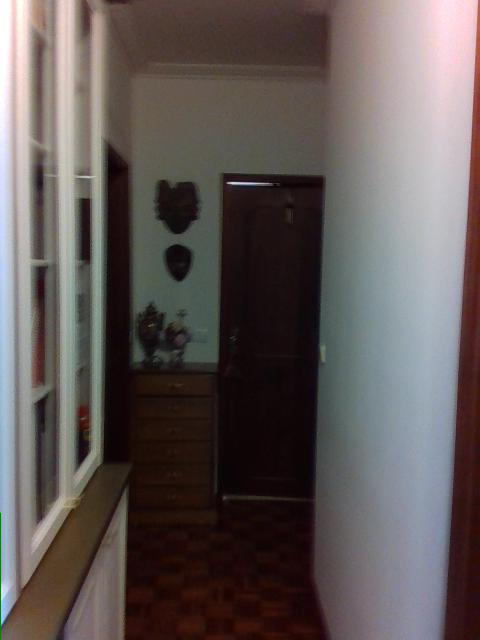door: (216, 170, 321, 510)
